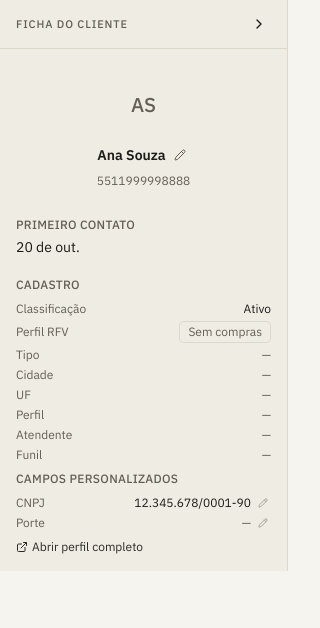
Test: B38-02 — campos no Chat, no cadastro e na lista › CA-B38-26: should mostrar os campos no painel do Chat e deixar editar o Porte pelo lápis
This screenshot has width=320, height=628.
Expected: the text "12.345.678/0001-90" is shown, [134,495,251,511]
Click the button named "Editar Porte" at (263, 523), box [255,515,271,531]
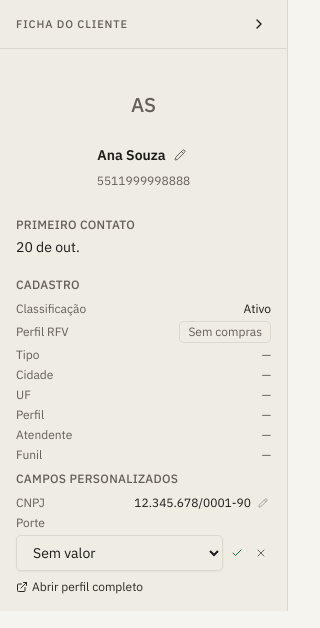
Select "Pequeno" in the dropdown labelled "Porte" at (120, 553), box [16,535,223,571]
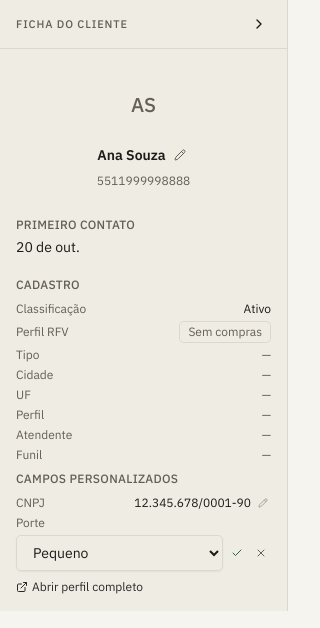
Click the button named "Salvar Porte" at (237, 553), box [227,543,247,563]
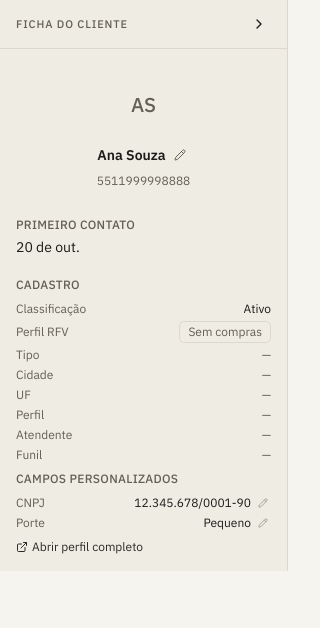
Expected: the text "12.345.678/0001-90" is shown, [134,495,251,511]
Expected: the element showing "Porte Pequeno" is shown, [16,515,271,531]
